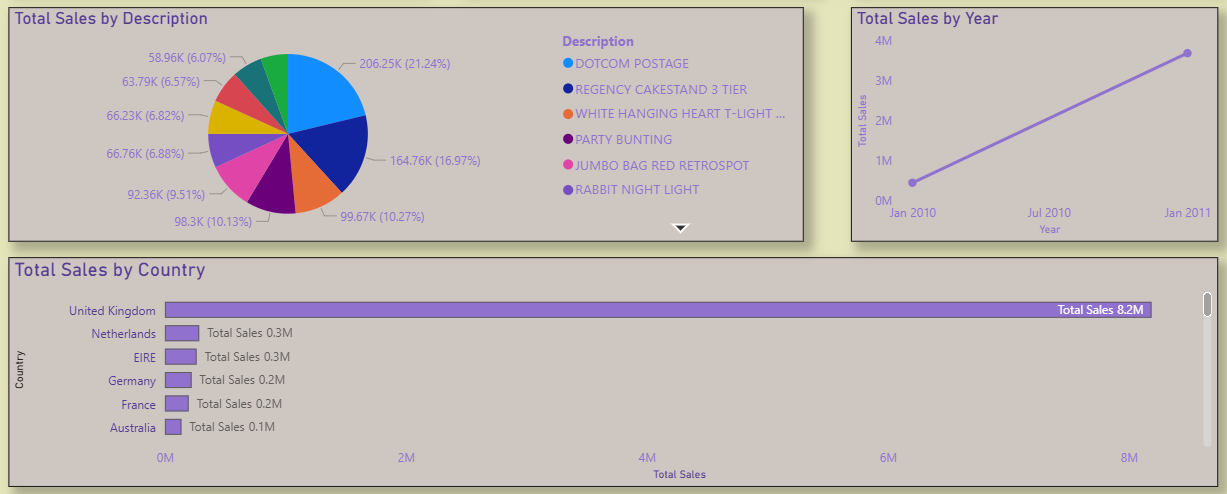

This screenshot's page, from the dashboard's own definition file:
{"tool":"powerbi","page":{"name":"Page 1","canvas":[1280,720],"ordinal":0},"visuals":[{"type":"clusteredBarChart","fields":{"Category":["data.Country"],"Y":["data.Total Sales"]},"box":[22,475.7,1209.4,229.9],"z":0},{"type":"pieChart","fields":{"Category":["data.Description"],"Y":["data.Total Sales"]},"box":[22,226.2,794.8,234.8],"z":1000},{"type":"lineChart","fields":{"Category":["data.Date.Variation.Date Hierarchy.Year","data.Date.Variation.Date Hierarchy.Quarter","data.Date.Variation.Date Hierarchy.Month","data.Date.Variation.Date Hierarchy.Day"],"Y":["data.Total Sales"]},"box":[864.5,226.2,366.8,234.8],"z":2000},{"type":"card","fields":{"Values":["data.Total Sales"]},"box":[22,80.7,412.1,124.7],"z":3000},{"type":"card","fields":{"Values":["data.Total Orders"]},"box":[864.5,80.7,366.8,124.7],"z":4000},{"type":"card","fields":{"Values":["data.Total Customers"]},"box":[473.2,80.7,357.1,124.7],"z":5000},{"type":"textbox","box":[99,9.8,1105.4,57.5],"z":6000}]}

Visuals, with their boxes on the page's 1280x720 design canvas (x1, y1, x2, y2). These are canvas units, not pixel positions in the 1227x494 screenshot, which may show the page scaled, cropped or inside an application window:
clusteredBarChart - data.Country x data.Total Sales: bbox=[22, 476, 1231, 706]
pieChart - data.Description x data.Total Sales: bbox=[22, 226, 817, 461]
lineChart - data.Date.Variation.Date Hierarchy.Year x data.Date.Variation.Date Hierarchy.Quarter: bbox=[864, 226, 1231, 461]
card - data.Total Sales: bbox=[22, 81, 434, 205]
card - data.Total Orders: bbox=[864, 81, 1231, 205]
card - data.Total Customers: bbox=[473, 81, 830, 205]
textbox: bbox=[99, 10, 1204, 67]
